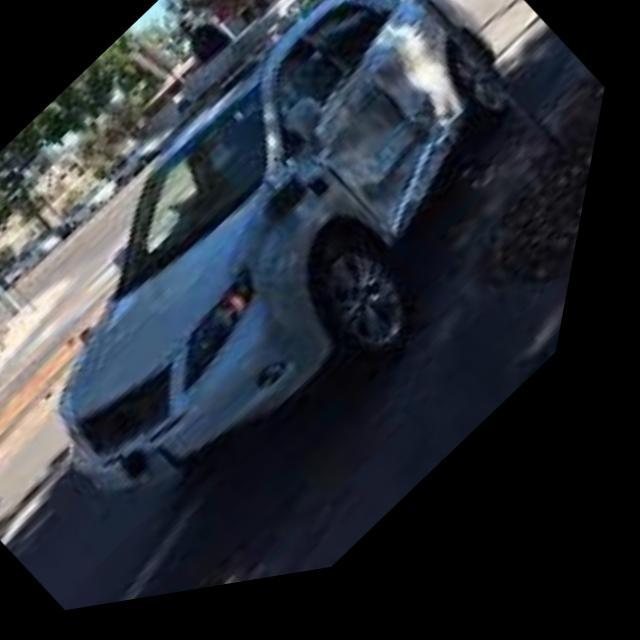crash: (242, 0, 473, 326)
